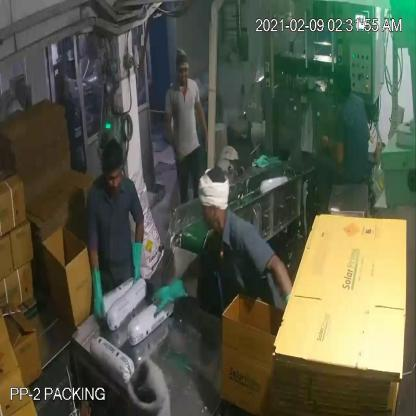glove: (146, 266, 198, 314), (82, 247, 107, 331), (124, 232, 149, 296)
no_glove: (314, 118, 346, 170), (192, 92, 216, 156), (158, 100, 178, 158)
